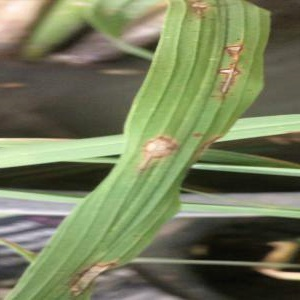Brown_Spot: (130, 118, 181, 180), (171, 124, 235, 172), (67, 249, 125, 300), (204, 33, 260, 71), (204, 59, 246, 97), (180, 1, 215, 19)
